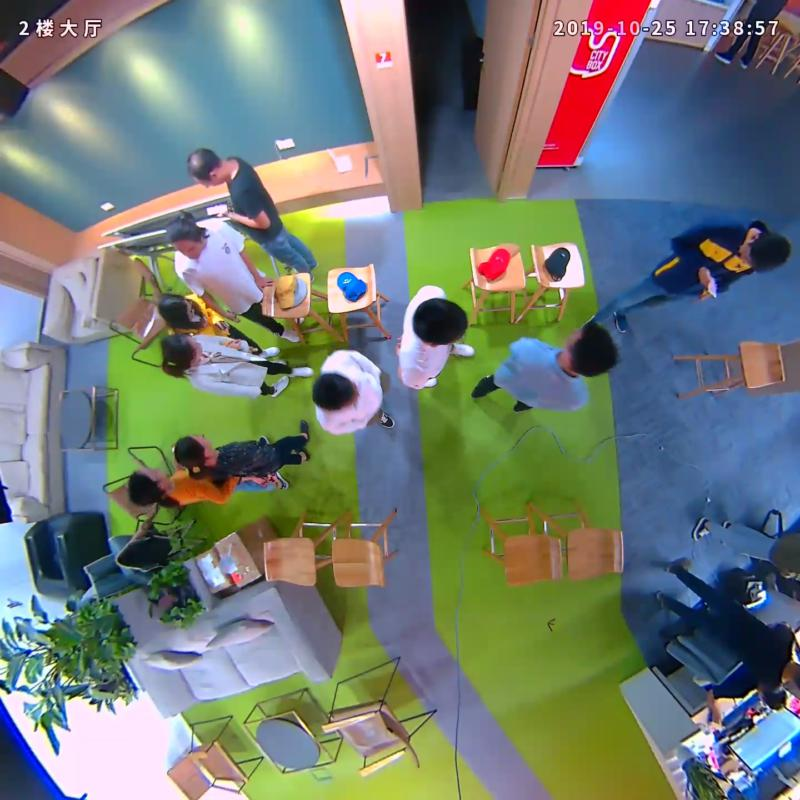head: (563, 322, 619, 377), (412, 297, 469, 347), (738, 231, 792, 273), (311, 373, 358, 411), (164, 218, 204, 260), (128, 468, 169, 507), (185, 146, 223, 187), (159, 333, 203, 366), (157, 293, 196, 328), (174, 433, 211, 469)
